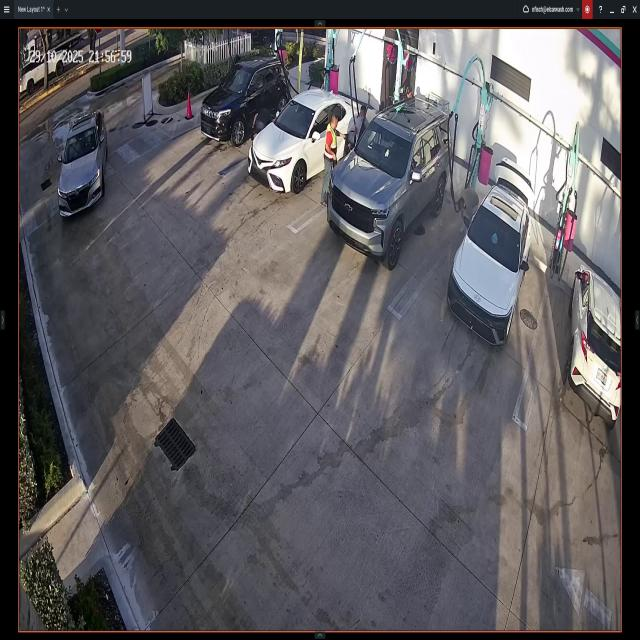Car: (327, 94, 450, 269), (448, 162, 532, 346), (250, 88, 368, 192), (569, 264, 621, 422), (201, 63, 293, 148), (57, 104, 105, 218)
